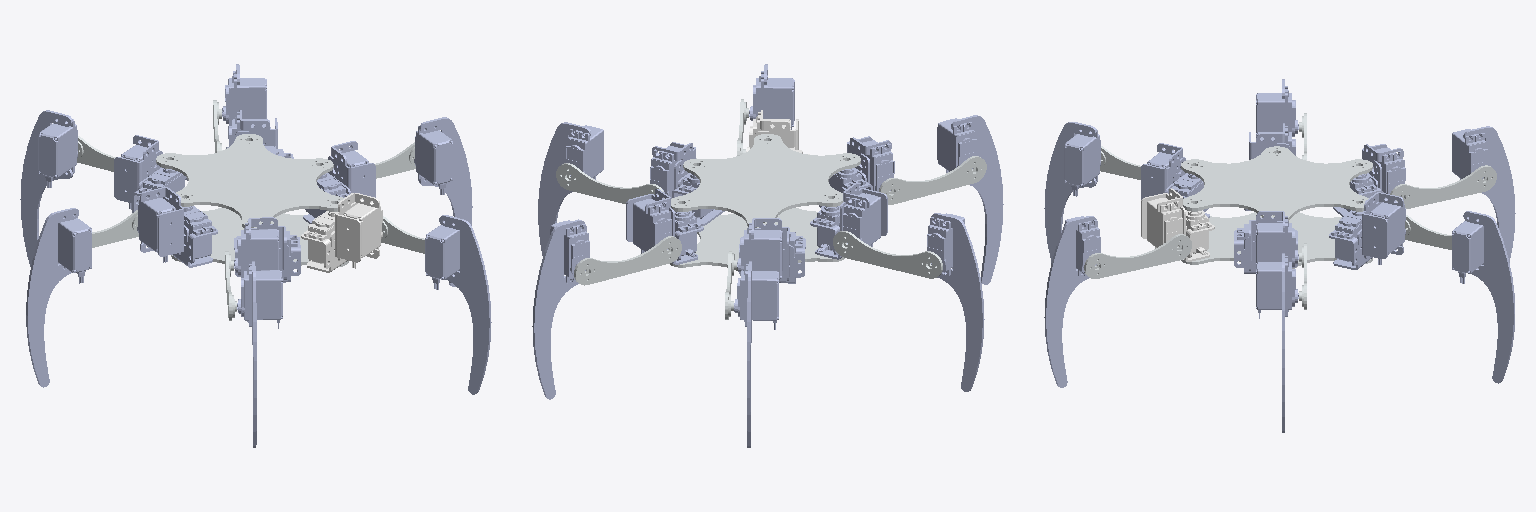
--- Render facts (derived) ---
The picture shows the robot from 3 angles, left to right: view 1: azimuth 30°, elevation 25°; view 2: azimuth 150°, elevation 25°; view 3: azimuth 270°, elevation 25°; orthographic projection.
Robot: spider URDF 2 — 19 links, 18 joints (18 fixed); root link main_body; default pose: all joints at 0.
Visible links, largest first — view 1: main_body, L2_tibia, R3_tibia, L1_tibia, R3_coxa, L2_coxa, R2_tibia, L3_coxa, L1_coxa, L3_tibia, R2_coxa, R1_tibia (+5 smaller); view 2: main_body, L2_tibia, R1_tibia, L3_tibia, R2_tibia, L2_coxa, R1_coxa, L1_coxa, L1_tibia, R2_coxa, L3_coxa, L2_femur (+5 smaller); view 3: main_body, R1_tibia, R3_tibia, L3_tibia, R1_coxa, L1_tibia, R3_coxa, R2_coxa, R2_tibia, L3_coxa, R3_femur, L1_coxa (+5 smaller).
Boxes of the visible links, bbox=[...] form: main_body: bbox=[156, 134, 348, 266]; L2_tibia: bbox=[26, 208, 91, 387]; R3_tibia: bbox=[425, 215, 491, 394]; L1_tibia: bbox=[20, 110, 77, 266]; R3_coxa: bbox=[301, 193, 382, 272]; L2_coxa: bbox=[137, 187, 217, 267]; R2_tibia: bbox=[414, 117, 472, 286]; L3_coxa: bbox=[234, 217, 300, 282]; L1_coxa: bbox=[114, 135, 187, 212]; L3_tibia: bbox=[237, 261, 282, 447]; R2_coxa: bbox=[303, 141, 375, 223]; R1_tibia: bbox=[222, 64, 266, 125]; main_body: bbox=[670, 134, 860, 270]; L2_tibia: bbox=[927, 213, 984, 391]; R1_tibia: bbox=[532, 219, 589, 399]; L3_tibia: bbox=[937, 115, 1003, 284]; R2_tibia: bbox=[538, 122, 603, 255]; L2_coxa: bbox=[810, 183, 887, 259]; R1_coxa: bbox=[626, 189, 703, 264]; L1_coxa: bbox=[737, 218, 805, 283]; L1_tibia: bbox=[734, 261, 778, 447]; R2_coxa: bbox=[650, 142, 724, 225]; L3_coxa: bbox=[819, 136, 894, 207]; L2_femur: bbox=[833, 231, 942, 278]; main_body: bbox=[1181, 146, 1372, 268]; R1_tibia: bbox=[1452, 211, 1514, 383]; R3_tibia: bbox=[1044, 216, 1100, 387]; L3_tibia: bbox=[1044, 122, 1100, 262]; R1_coxa: bbox=[1329, 192, 1405, 269]; L1_tibia: bbox=[1452, 126, 1515, 262]; R3_coxa: bbox=[1141, 188, 1214, 261]; R2_coxa: bbox=[1234, 211, 1298, 273]; R2_tibia: bbox=[1256, 253, 1298, 432]; L3_coxa: bbox=[1141, 143, 1209, 217]; R3_femur: bbox=[1084, 234, 1191, 278]; L1_coxa: bbox=[1333, 144, 1405, 216].
Size in the robot's own frame: 0.45 by 0.4288 by 0.1654 metres.
19 mesh visuals loaded from 19 distinct referenced files (19 binary STL).

robot.urdf — spider URDF 2:
<?xml version="1.0" encoding="utf-8"?>
<!-- This URDF was automatically created by SolidWorks to URDF Exporter! Originally created by Stephen Brawner ([email redacted]) 
     Commit Version: 1.5.1-0-g916b5db  Build Version: 1.5.7152.31018
     For more information, please see http://wiki.ros.org/sw_urdf_exporter -->
<robot
  name="spider URDF 2">
  <link
    name="main_body">
    <inertial>
      <origin
        xyz="7.9841E-19 2.4817E-18 -0.024667"
        rpy="0 0 0" />
      <mass
        value="0.27159" />
      <inertia
        ixx="0.00047029"
        ixy="8.621E-20"
        ixz="9.2464E-22"
        iyy="0.00030006"
        iyz="2.8702E-20"
        izz="0.00076993" />
    </inertial>
    <visual>
      <origin
        xyz="0 0 0"
        rpy="0 0 0" />
      <geometry>
        <mesh
          filename="package://spider URDF 2/meshes/main_body.STL" />
      </geometry>
      <material
        name="">
        <color
          rgba="0.89804 0.91765 0.92941 1" />
      </material>
    </visual>
    <collision>
      <origin
        xyz="0 0 0"
        rpy="0 0 0" />
      <geometry>
        <mesh
          filename="package://spider URDF 2/meshes/main_body.STL" />
      </geometry>
    </collision>
  </link>
  <link
    name="L1_coxa">
    <inertial>
      <origin
        xyz="0.0247761020916158 0.0016341318811333 0.00351420598211367"
        rpy="0 0 0" />
      <mass
        value="0.145467159991245" />
      <inertia
        ixx="4.17771437174161E-05"
        ixy="-5.35841770623164E-07"
        ixz="5.35574503748093E-07"
        iyy="2.67197997965506E-05"
        iyz="-4.91508372771303E-13"
        izz="2.67198003019226E-05" />
    </inertial>
    <visual>
      <origin
        xyz="0 0 0"
        rpy="0 0 0" />
      <geometry>
        <mesh
          filename="package://spider URDF 2/meshes/L1_coxa.STL" />
      </geometry>
      <material
        name="">
        <color
          rgba="0.792156862745098 0.819607843137255 0.933333333333333 1" />
      </material>
    </visual>
    <collision>
      <origin
        xyz="0 0 0"
        rpy="0 0 0" />
      <geometry>
        <mesh
          filename="package://spider URDF 2/meshes/L1_coxa.STL" />
      </geometry>
    </collision>
  </link>
  <joint
    name="L1_joint1"
    type="fixed">
    <origin
      xyz="-0.044415 0.061418 -0.023391"
      rpy="1.5708 0 2.0608" />
    <parent
      link="main_body" />
    <child
      link="L1_coxa" />
    <axis
      xyz="0 0 0" />
    <limit
      lower="0"
      upper="0"
      effort="0"
      velocity="0" />
  </joint>
  <link
    name="L1_femur">
    <inertial>
      <origin
        xyz="0.0425 0.00207234047327528 -0.000962489733140025"
        rpy="0 0 0" />
      <mass
        value="0.0189543856263249" />
      <inertia
        ixx="6.90193645790598E-07"
        ixy="9.75487893396359E-21"
        ixz="7.94093388050907E-23"
        iyy="1.6507785713016E-05"
        iyz="2.0503687617123E-21"
        izz="1.71682624360507E-05" />
    </inertial>
    <visual>
      <origin
        xyz="0 0 0"
        rpy="0 0 0" />
      <geometry>
        <mesh
          filename="package://spider URDF 2/meshes/L1_femur.STL" />
      </geometry>
      <material
        name="">
        <color
          rgba="0.898039215686275 0.92156862745098 0.929411764705882 1" />
      </material>
    </visual>
    <collision>
      <origin
        xyz="0 0 0"
        rpy="0 0 0" />
      <geometry>
        <mesh
          filename="package://spider URDF 2/meshes/L1_femur.STL" />
      </geometry>
    </collision>
  </link>
  <joint
    name="L1_joint2"
    type="fixed">
    <origin
      xyz="0.0396460000000004 -0.00178099999999991 0.0349586679866614"
      rpy="-3.14159265358979 0 0" />
    <parent
      link="L1_coxa" />
    <child
      link="L1_femur" />
    <axis
      xyz="0 0 0" />
    <limit
      lower="0"
      upper="0"
      effort="0"
      velocity="0" />
  </joint>
  <link
    name="L1_tibia">
    <inertial>
      <origin
        xyz="0.0178645516396564 -0.000259178981868974 0.0136344624812394"
        rpy="0 0 0" />
      <mass
        value="0.083452689557944" />
      <inertia
        ixx="6.39493635604438E-05"
        ixy="-1.3188961409821E-10"
        ixz="-6.85516461255453E-06"
        iyy="6.30699268556512E-05"
        iyz="-1.55008010479795E-07"
        izz="1.1270060453422E-05" />
    </inertial>
    <visual>
      <origin
        xyz="0 0 0"
        rpy="0 0 0" />
      <geometry>
        <mesh
          filename="package://spider URDF 2/meshes/L1_tibia.STL" />
      </geometry>
      <material
        name="">
        <color
          rgba="0.792156862745098 0.819607843137255 0.933333333333333 1" />
      </material>
    </visual>
    <collision>
      <origin
        xyz="0 0 0"
        rpy="0 0 0" />
      <geometry>
        <mesh
          filename="package://spider URDF 2/meshes/L1_tibia.STL" />
      </geometry>
    </collision>
  </link>
  <joint
    name="L1_joint3"
    type="fixed">
    <origin
      xyz="0.0750939999999996 -0.0102869999999999 0.0233906679866615"
      rpy="-1.5707963267949 0 0" />
    <parent
      link="L1_femur" />
    <child
      link="L1_tibia" />
    <axis
      xyz="0 0 0" />
    <limit
      lower="0"
      upper="0"
      effort="0"
      velocity="0" />
  </joint>
  <link
    name="L2_coxa">
    <inertial>
      <origin
        xyz="0.0247761019865103 0.00163413188564857 0.00351420600696526"
        rpy="0 0 0" />
      <mass
        value="0.145467159253711" />
      <inertia
        ixx="4.1777143942296E-05"
        ixy="-5.35841762208973E-07"
        ixz="5.35574479770473E-07"
        iyy="2.67198002179655E-05"
        iyz="1.0483085257125E-20"
        izz="2.67198002179655E-05" />
    </inertial>
    <visual>
      <origin
        xyz="0 0 0"
        rpy="0 0 0" />
      <geometry>
        <mesh
          filename="package://spider URDF 2/meshes/L2_coxa.STL" />
      </geometry>
      <material
        name="">
        <color
          rgba="0.792156862745098 0.819607843137255 0.933333333333333 1" />
      </material>
    </visual>
    <collision>
      <origin
        xyz="0 0 0"
        rpy="0 0 0" />
      <geometry>
        <mesh
          filename="package://spider URDF 2/meshes/L2_coxa.STL" />
      </geometry>
    </collision>
  </link>
  <joint
    name="L2_joint1"
    type="fixed">
    <origin
      xyz="-0.057933 -0.010287 -0.023391"
      rpy="1.5708 0 -3.1416" />
    <parent
      link="main_body" />
    <child
      link="L2_coxa" />
    <axis
      xyz="0 0 0" />
    <limit
      lower="0"
      upper="0"
      effort="0"
      velocity="0" />
  </joint>
  <link
    name="L2_femur">
    <inertial>
      <origin
        xyz="0.0425 0.00207234047327529 -0.000962489733140046"
        rpy="0 0 0" />
      <mass
        value="0.0189543856263249" />
      <inertia
        ixx="6.90193645790593E-07"
        ixy="1.05689234935213E-21"
        ixz="8.04103118988984E-21"
        iyy="1.6507785713016E-05"
        iyz="1.63458960305294E-21"
        izz="1.71682624360507E-05" />
    </inertial>
    <visual>
      <origin
        xyz="0 0 0"
        rpy="0 0 0" />
      <geometry>
        <mesh
          filename="package://spider URDF 2/meshes/L2_femur.STL" />
      </geometry>
      <material
        name="">
        <color
          rgba="0.898039215686275 0.92156862745098 0.929411764705882 1" />
      </material>
    </visual>
    <collision>
      <origin
        xyz="0 0 0"
        rpy="0 0 0" />
      <geometry>
        <mesh
          filename="package://spider URDF 2/meshes/L2_femur.STL" />
      </geometry>
    </collision>
  </link>
  <joint
    name="L2_joint2"
    type="fixed">
    <origin
      xyz="0.0396460000000004 -0.00178099999999991 0.0349586679866614"
      rpy="3.14159265358979 0 0" />
    <parent
      link="L2_coxa" />
    <child
      link="L2_femur" />
    <axis
      xyz="0 0 0" />
    <limit
      lower="0"
      upper="0"
      effort="0"
      velocity="0" />
  </joint>
  <link
    name="L2_tibia">
    <inertial>
      <origin
        xyz="0.0178645519028315 -0.000259179077848723 0.0136344632777333"
        rpy="0 0 0" />
      <mass
        value="0.0834526902175736" />
      <inertia
        ixx="6.39493650348896E-05"
        ixy="-1.31909002290743E-10"
        ixz="-6.85516445399056E-06"
        iyy="6.30699287112449E-05"
        iyz="-1.55008077461342E-07"
        izz="1.12700615287121E-05" />
    </inertial>
    <visual>
      <origin
        xyz="0 0 0"
        rpy="0 0 0" />
      <geometry>
        <mesh
          filename="package://spider URDF 2/meshes/L2_tibia.STL" />
      </geometry>
      <material
        name="">
        <color
          rgba="0.792156862745098 0.819607843137255 0.933333333333333 1" />
      </material>
    </visual>
    <collision>
      <origin
        xyz="0 0 0"
        rpy="0 0 0" />
      <geometry>
        <mesh
          filename="package://spider URDF 2/meshes/L2_tibia.STL" />
      </geometry>
    </collision>
  </link>
  <joint
    name="L2_joint3"
    type="fixed">
    <origin
      xyz="0.0750939999999996 -0.0102869999999999 0.0233906679866614"
      rpy="-1.5707963267949 0 0" />
    <parent
      link="L2_femur" />
    <child
      link="L2_tibia" />
    <axis
      xyz="0 0 0" />
    <limit
      lower="0"
      upper="0"
      effort="0"
      velocity="0" />
  </joint>
  <link
    name="L3_coxa">
    <inertial>
      <origin
        xyz="0.0247761020098556 0.00163413195267163 0.00351420592765425"
        rpy="0 0 0" />
      <mass
        value="0.145467159991245" />
      <inertia
        ixx="4.17771437174694E-05"
        ixy="-5.35841791312058E-07"
        ixz="5.35574459198207E-07"
        iyy="2.67197998012243E-05"
        iyz="-4.54267233853851E-13"
        izz="2.67198002995217E-05" />
    </inertial>
    <visual>
      <origin
        xyz="0 0 0"
        rpy="0 0 0" />
      <geometry>
        <mesh
          filename="package://spider URDF 2/meshes/L3_coxa.STL" />
      </geometry>
      <material
        name="">
        <color
          rgba="0.792156862745098 0.819607843137255 0.933333333333333 1" />
      </material>
    </visual>
    <collision>
      <origin
        xyz="0 0 0"
        rpy="0 0 0" />
      <geometry>
        <mesh
          filename="package://spider URDF 2/meshes/L3_coxa.STL" />
      </geometry>
    </collision>
  </link>
  <joint
    name="L3_joint1"
    type="fixed">
    <origin
      xyz="-0.026262 -0.0711 -0.023391"
      rpy="1.5708 0 -2.0608" />
    <parent
      link="main_body" />
    <child
      link="L3_coxa" />
    <axis
      xyz="0 0 0" />
    <limit
      lower="0"
      upper="0"
      effort="0"
      velocity="0" />
  </joint>
  <link
    name="L3_femur">
    <inertial>
      <origin
        xyz="0.0424999999999998 0.00207234047327515 -0.000962489733139935"
        rpy="0 0 0" />
      <mass
        value="0.0189543856263249" />
      <inertia
        ixx="6.90193645790596E-07"
        ixy="1.27110074245556E-20"
        ixz="6.03510974918689E-21"
        iyy="1.65077857130159E-05"
        iyz="1.75296890584284E-21"
        izz="1.71682624360507E-05" />
    </inertial>
    <visual>
      <origin
        xyz="0 0 0"
        rpy="0 0 0" />
      <geometry>
        <mesh
          filename="package://spider URDF 2/meshes/L3_femur.STL" />
      </geometry>
      <material
        name="">
        <color
          rgba="0.898039215686275 0.92156862745098 0.929411764705882 1" />
      </material>
    </visual>
    <collision>
      <origin
        xyz="0 0 0"
        rpy="0 0 0" />
      <geometry>
        <mesh
          filename="package://spider URDF 2/meshes/L3_femur.STL" />
      </geometry>
    </collision>
  </link>
  <joint
    name="L3_joint2"
    type="fixed">
    <origin
      xyz="0.0396460000000005 -0.00178099999999964 0.0349586679866626"
      rpy="3.14159265358979 0 0" />
    <parent
      link="L3_coxa" />
    <child
      link="L3_femur" />
    <axis
      xyz="0 0 0" />
    <limit
      lower="0"
      upper="0"
      effort="0"
      velocity="0" />
  </joint>
  <link
    name="L3_tibia">
    <inertial>
      <origin
        xyz="0.0178645520428122 -0.000259178845722352 0.0136344638552385"
        rpy="0 0 0" />
      <mass
        value="0.0834526923953858" />
      <inertia
        ixx="6.39493660790735E-05"
        ixy="-1.31925906151489E-10"
        ixz="-6.8551643119347E-06"
        iyy="6.30699307053158E-05"
        iyz="-1.55008121913509E-07"
        izz="1.1270061788477E-05" />
    </inertial>
    <visual>
      <origin
        xyz="0 0 0"
        rpy="0 0 0" />
      <geometry>
        <mesh
          filename="package://spider URDF 2/meshes/L3_tibia.STL" />
      </geometry>
      <material
        name="">
        <color
          rgba="0.792156862745098 0.819607843137255 0.933333333333333 1" />
      </material>
    </visual>
    <collision>
      <origin
        xyz="0 0 0"
        rpy="0 0 0" />
      <geometry>
        <mesh
          filename="package://spider URDF 2/meshes/L3_tibia.STL" />
      </geometry>
    </collision>
  </link>
  <joint
    name="L3_joint3"
    type="fixed">
    <origin
      xyz="0.0750939999999996 -0.0102869999999999 0.0233906679866616"
      rpy="-1.5707963267949 0 0" />
    <parent
      link="L3_femur" />
    <child
      link="L3_tibia" />
    <axis
      xyz="0 0 0" />
    <limit
      lower="0"
      upper="0"
      effort="0"
      velocity="0" />
  </joint>
  <link
    name="R1_coxa">
    <inertial>
      <origin
        xyz="-0.00496389814092921 0.00163413195267159 0.00351420592765427"
        rpy="0 0 0" />
      <mass
        value="0.145467159991245" />
      <inertia
        ixx="4.17771437174693E-05"
        ixy="5.35468938005544E-07"
        ixz="-5.35736270119371E-07"
        iyy="2.67197998012243E-05"
        iyz="-4.54267229900889E-13"
        izz="2.67198002995216E-05" />
    </inertial>
    <visual>
      <origin
        xyz="0 0 0"
        rpy="0 0 0" />
      <geometry>
        <mesh
          filename="package://spider URDF 2/meshes/R1_coxa.STL" />
      </geometry>
      <material
        name="">
        <color
          rgba="0.792156862745098 0.819607843137255 0.933333333333333 1" />
      </material>
    </visual>
    <collision>
      <origin
        xyz="0 0 0"
        rpy="0 0 0" />
      <geometry>
        <mesh
          filename="package://spider URDF 2/meshes/R1_coxa.STL" />
      </geometry>
    </collision>
  </link>
  <joint
    name="R1_joint1"
    type="fixed">
    <origin
      xyz="0.053738 0.0789 -0.023391"
      rpy="1.5708 0 -2.0608" />
    <parent
      link="main_body" />
    <child
      link="R1_coxa" />
    <axis
      xyz="0 0 0" />
    <limit
      lower="0"
      upper="0"
      effort="0"
      velocity="0" />
  </joint>
  <link
    name="R1_femur">
    <inertial>
      <origin
        xyz="-0.0425 0.00207234047327522 -0.000962489733140004"
        rpy="0 0 0" />
      <mass
        value="0.0189543856263249" />
      <inertia
        ixx="6.90193645790599E-07"
        ixy="5.83228344855E-21"
        ixz="3.09696421339854E-21"
        iyy="1.65077857130159E-05"
        iyz="1.97242199602815E-21"
        izz="1.71682624360507E-05" />
    </inertial>
    <visual>
      <origin
        xyz="0 0 0"
        rpy="0 0 0" />
      <geometry>
        <mesh
          filename="package://spider URDF 2/meshes/R1_femur.STL" />
      </geometry>
      <material
        name="">
        <color
          rgba="0.898039215686275 0.92156862745098 0.929411764705882 1" />
      </material>
    </visual>
    <collision>
      <origin
        xyz="0 0 0"
        rpy="0 0 0" />
      <geometry>
        <mesh
          filename="package://spider URDF 2/meshes/R1_femur.STL" />
      </geometry>
    </collision>
  </link>
  <joint
    name="R1_joint2"
    type="fixed">
    <origin
      xyz="-0.0198339999999996 -0.0017809999999999 0.0349586679866615"
      rpy="3.14159265358979 0 0" />
    <parent
      link="R1_coxa" />
    <child
      link="R1_femur" />
    <axis
      xyz="0 0 0" />
    <limit
      lower="0"
      upper="0"
      effort="0"
      velocity="0" />
  </joint>
  <link
    name="R1_tibia">
    <inertial>
      <origin
        xyz="0.00194762565089338 -0.000259206689439198 0.0136344638552385"
        rpy="0 0 0" />
      <mass
        value="0.0834526923953859" />
      <inertia
        ixx="6.39493660790734E-05"
        ixy="-1.31925906144713E-10"
        ixz="6.85526981343424E-06"
        iyy="6.30699307053149E-05"
        iyz="-1.54967811581959E-07"
        izz="1.12700617884764E-05" />
    </inertial>
    <visual>
      <origin
        xyz="0 0 0"
        rpy="0 0 0" />
      <geometry>
        <mesh
          filename="package://spider URDF 2/meshes/R1_tibia.STL" />
      </geometry>
      <material
        name="">
        <color
          rgba="0.792156862745098 0.819607843137255 0.933333333333333 1" />
      </material>
    </visual>
    <collision>
      <origin
        xyz="0 0 0"
        rpy="0 0 0" />
      <geometry>
        <mesh
          filename="package://spider URDF 2/meshes/R1_tibia.STL" />
      </geometry>
    </collision>
  </link>
  <joint
    name="R1_joint3"
    type="fixed">
    <origin
      xyz="-0.0949060000000004 -0.0102869999999999 0.0233906679866615"
      rpy="-1.5707963267949 0 0" />
    <parent
      link="R1_femur" />
    <child
      link="R1_tibia" />
    <axis
      xyz="0 0 0" />
    <limit
      lower="0"
      upper="0"
      effort="0"
      velocity="0" />
  </joint>
  <link
    name="R2_coxa">
    <inertial>
      <origin
        xyz="-0.0049639 0.0016341 0.0035142"
        rpy="0 0 0" />
      <mass
        value="0.14547" />
      <inertia
        ixx="4.1777E-05"
        ixy="5.3547E-07"
        ixz="-5.3574E-07"
        iyy="2.672E-05"
        iyz="8.6821E-21"
        izz="2.672E-05" />
    </inertial>
    <visual>
      <origin
        xyz="0 0 0"
        rpy="0 0 0" />
      <geometry>
        <mesh
          filename="package://spider URDF 2/meshes/R2_coxa.STL" />
      </geometry>
      <material
        name="">
        <color
          rgba="0.79216 0.81961 0.93333 1" />
      </material>
    </visual>
    <collision>
      <origin
        xyz="0 0 0"
        rpy="0 0 0" />
      <geometry>
        <mesh
          filename="package://spider URDF 2/meshes/R2_coxa.STL" />
      </geometry>
    </collision>
  </link>
  <joint
    name="R2_joint1"
    type="fixed">
    <origin
      xyz="0.077745 -0.010287 -0.023391"
      rpy="1.5708 0 -3.1416" />
    <parent
      link="main_body" />
    <child
      link="R2_coxa" />
    <axis
      xyz="0 0 0" />
    <limit
      lower="0"
      upper="0"
      effort="0"
      velocity="0" />
  </joint>
  <link
    name="R2_femur">
    <inertial>
      <origin
        xyz="-0.0425 0.0020723 -0.00096249"
        rpy="0 0 0" />
      <mass
        value="0.018954" />
      <inertia
        ixx="6.9019E-07"
        ixy="-1.399E-21"
        ixz="1.7931E-20"
        iyy="1.6508E-05"
        iyz="2.691E-21"
        izz="1.7168E-05" />
    </inertial>
    <visual>
      <origin
        xyz="0 0 0"
        rpy="0 0 0" />
      <geometry>
        <mesh
          filename="package://spider URDF 2/meshes/R2_femur.STL" />
      </geometry>
      <material
        name="">
        <color
          rgba="0.89804 0.92157 0.92941 1" />
      </material>
    </visual>
    <collision>
      <origin
        xyz="0 0 0"
        rpy="0 0 0" />
      <geometry>
        <mesh
          filename="package://spider URDF 2/meshes/R2_femur.STL" />
      </geometry>
    </collision>
  </link>
  <joint
    name="R2_joint2"
    type="fixed">
    <origin
      xyz="-0.0198339999999996 -0.00178099999999989 0.0349586679866615"
      rpy="-3.14159265358979 0 0" />
    <parent
      link="R2_coxa" />
    <child
      link="R2_femur" />
    <axis
      xyz="0 0 0" />
    <limit
      lower="0"
      upper="0"
      effort="0"
      velocity="0" />
  </joint>
  <link
    name="R2_tibia">
    <inertial>
      <origin
        xyz="0.0019476 -0.00025921 0.013634"
        rpy="0 0 0" />
      <mass
        value="0.083453" />
      <inertia
        ixx="6.3949E-05"
        ixy="-1.3191E-10"
        ixz="6.8553E-06"
        iyy="6.307E-05"
        iyz="-1.5497E-07"
        izz="1.127E-05" />
    </inertial>
    <visual>
      <origin
        xyz="0 0 0"
        rpy="0 0 0" />
      <geometry>
        <mesh
          filename="package://spider URDF 2/meshes/R2_tibia.STL" />
      </geometry>
      <material
        name="">
        <color
          rgba="0.79216 0.81961 0.93333 1" />
      </material>
    </visual>
    <collision>
      <origin
        xyz="0 0 0"
        rpy="0 0 0" />
      <geometry>
        <mesh
          filename="package://spider URDF 2/meshes/R2_tibia.STL" />
      </geometry>
    </collision>
  </link>
  <joint
    name="R2_joint3"
    type="fixed">
    <origin
      xyz="-0.0949060000000004 -0.0102869999999999 0.0233906679866616"
      rpy="-1.5707963267949 0 0" />
    <parent
      link="R2_femur" />
    <child
      link="R2_tibia" />
    <axis
      xyz="0 0 0" />
    <limit
      lower="0"
      upper="0"
      effort="0"
      velocity="0" />
  </joint>
  <link
    name="R3_coxa">
    <inertial>
      <origin
        xyz="0 0 0"
        rpy="0 0 0" />
      <mass
        value="0" />
      <inertia
        ixx="0"
        ixy="0"
        ixz="0"
        iyy="0"
        iyz="0"
        izz="0" />
    </inertial>
    <visual>
      <origin
        xyz="0 0 0"
        rpy="0 0 0" />
      <geometry>
        <mesh
          filename="package://spider URDF 2/meshes/R3_coxa.STL" />
      </geometry>
      <material
        name="">
        <color
          rgba="1 1 1 1" />
      </material>
    </visual>
    <collision>
      <origin
        xyz="0 0 0"
        rpy="0 0 0" />
      <geometry>
        <mesh
          filename="package://spider URDF 2/meshes/R3_coxa.STL" />
      </geometry>
    </collision>
  </link>
  <joint
    name="R3_joint1"
    type="fixed">
    <origin
      xyz="0.0355848823529414 -0.0885815294117651 -0.0233906679866614"
      rpy="1.5707963267949 0 2.06075365304862" />
    <parent
      link="main_body" />
    <child
      link="R3_coxa" />
    <axis
      xyz="0 0 0" />
    <limit
      lower="0"
      upper="0"
      effort="0"
      velocity="0" />
  </joint>
  <link
    name="R3_femur">
    <inertial>
      <origin
        xyz="-0.0425000000000001 0.00207234047327527 -0.000962489733140059"
        rpy="0 0 0" />
      <mass
        value="0.018954385626325" />
      <inertia
        ixx="6.90193645790599E-07"
        ixy="-3.69336264179559E-21"
        ixz="-1.96670462440608E-20"
        iyy="1.6507785713016E-05"
        iyz="3.1737957298141E-21"
        izz="1.71682624360508E-05" />
    </inertial>
    <visual>
      <origin
        xyz="0 0 0"
        rpy="0 0 0" />
      <geometry>
        <mesh
          filename="package://spider URDF 2/meshes/R3_femur.STL" />
      </geometry>
      <material
        name="">
        <color
          rgba="0.898039215686275 0.92156862745098 0.929411764705882 1" />
      </material>
    </visual>
    <collision>
      <origin
        xyz="0 0 0"
        rpy="0 0 0" />
      <geometry>
        <mesh
          filename="package://spider URDF 2/meshes/R3_femur.STL" />
      </geometry>
    </collision>
  </link>
  <joint
    name="R3_joint2"
    type="fixed">
    <origin
      xyz="-0.0198339999999995 -0.0017809999999999 0.0349586679866615"
      rpy="-3.14159265358979 0 0" />
    <parent
      link="R3_coxa" />
    <child
      link="R3_femur" />
    <axis
      xyz="0 0 0" />
    <limit
      lower="0"
      upper="0"
      effort="0"
      velocity="0" />
  </joint>
  <link
    name="R3_tibia">
    <inertial>
      <origin
        xyz="0.00194762621390129 -0.000259206874815343 0.0136344624812394"
        rpy="0 0 0" />
      <mass
        value="0.0834526895579443" />
      <inertia
        ixx="6.39493635604439E-05"
        ixy="-1.31889614091434E-10"
        ixz="6.85527012743982E-06"
        iyy="6.30699268556516E-05"
        iyz="-1.54967636024376E-07"
        izz="1.12700604534222E-05" />
    </inertial>
    <visual>
      <origin
        xyz="0 0 0"
        rpy="0 0 0" />
      <geometry>
        <mesh
          filename="package://spider URDF 2/meshes/R3_tibia.STL" />
      </geometry>
      <material
        name="">
        <color
          rgba="0.792156862745098 0.819607843137255 0.933333333333333 1" />
      </material>
    </visual>
    <collision>
      <origin
        xyz="0 0 0"
        rpy="0 0 0" />
      <geometry>
        <mesh
          filename="package://spider URDF 2/meshes/R3_tibia.STL" />
      </geometry>
    </collision>
  </link>
  <joint
    name="R3_joint3"
    type="fixed">
    <origin
      xyz="-0.0949060000000004 -0.0102869999999999 0.0233906679866614"
      rpy="-1.5707963267949 0 0" />
    <parent
      link="R3_femur" />
    <child
      link="R3_tibia" />
    <axis
      xyz="0 0 0" />
    <limit
      lower="0"
      upper="0"
      effort="0"
      velocity="0" />
  </joint>
</robot>
